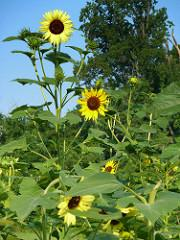sunflower: (40, 10, 72, 45), (76, 86, 110, 118), (70, 180, 71, 181)
